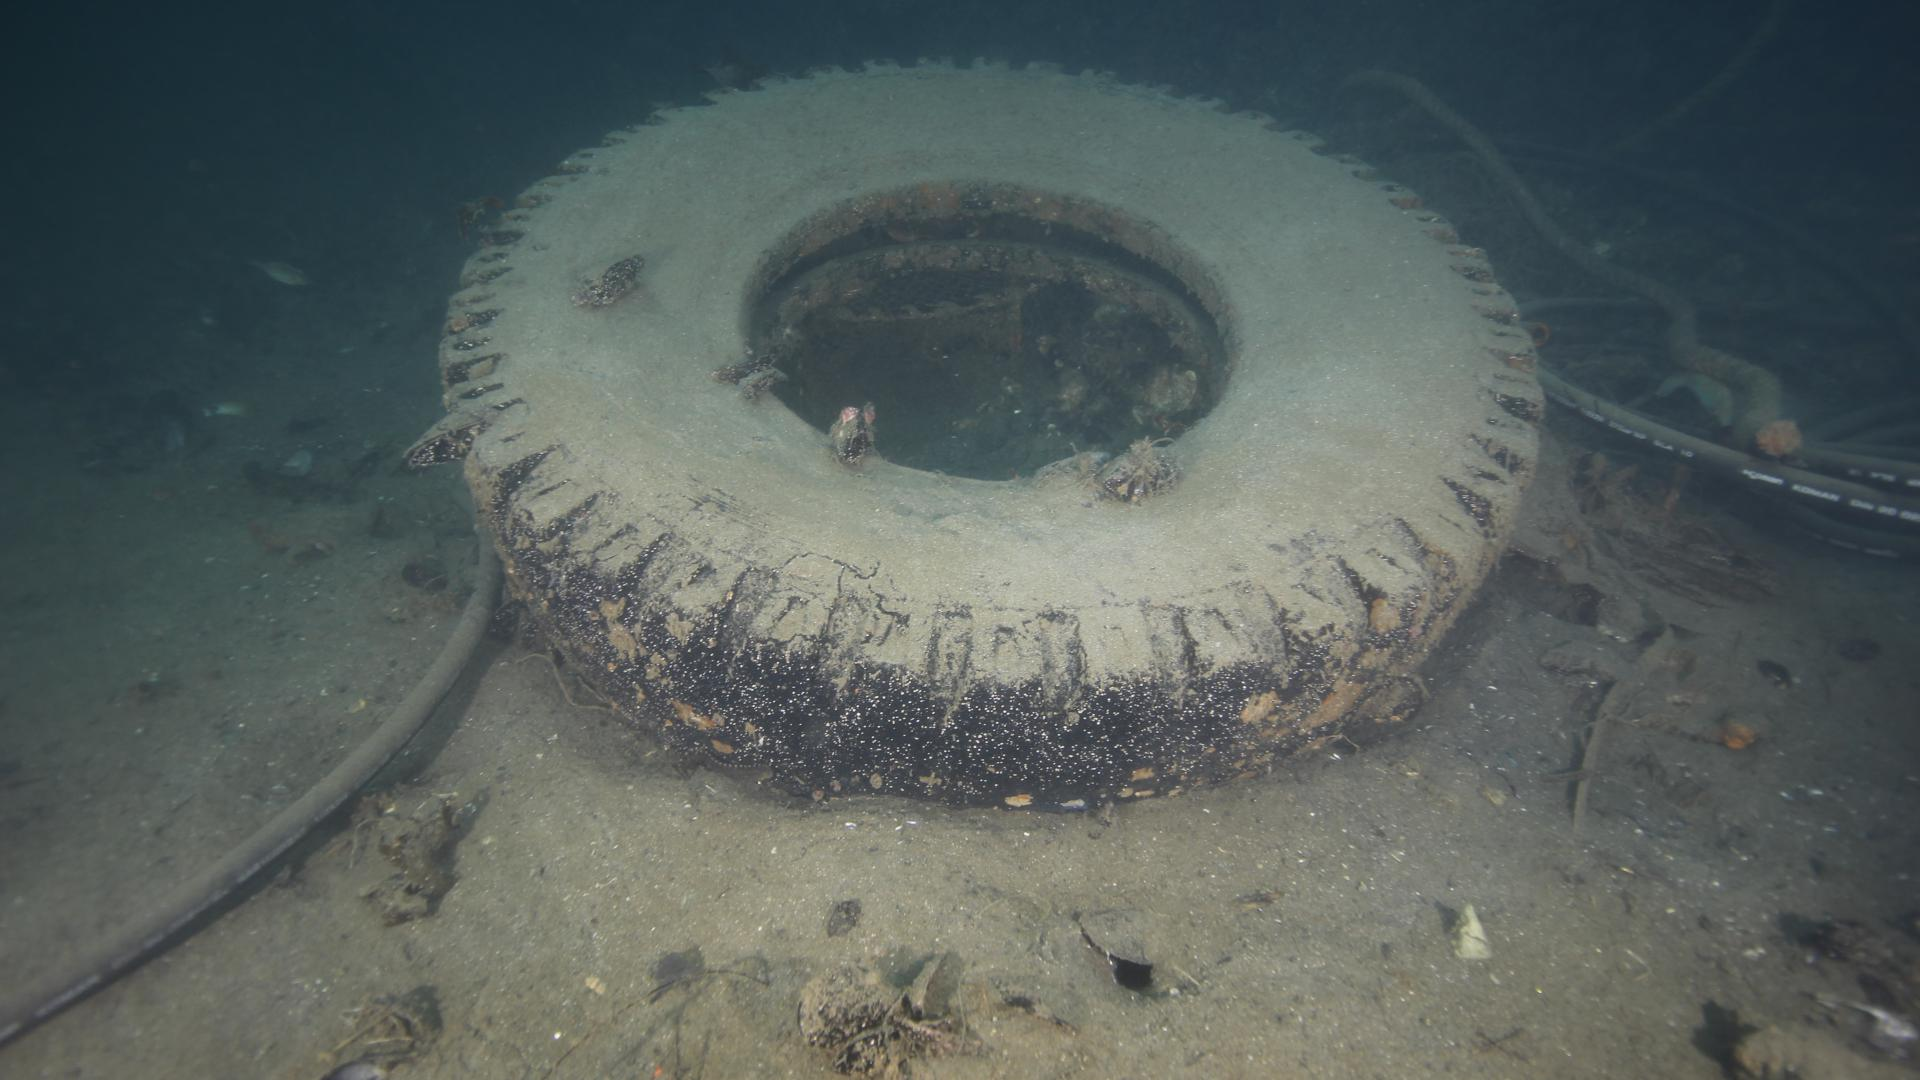rope: (1344, 65, 1783, 421)
tire: (436, 54, 1547, 808)
